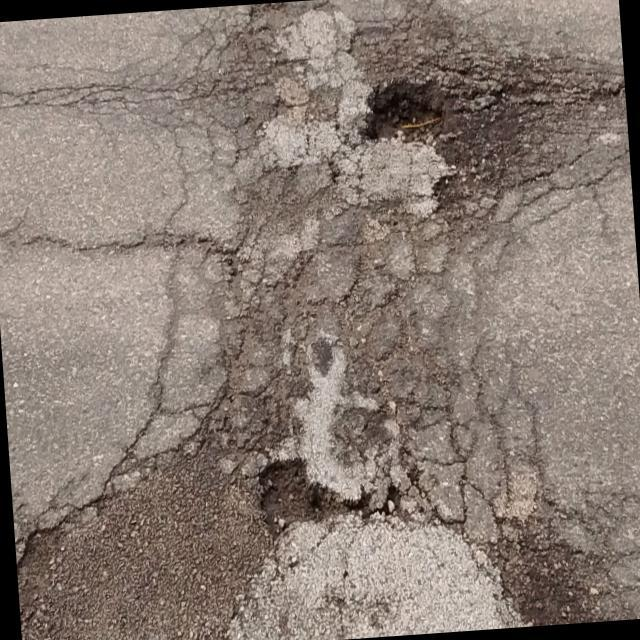Pothole: (14, 396, 401, 640), (453, 483, 640, 630), (348, 64, 506, 232), (240, 405, 348, 518)
